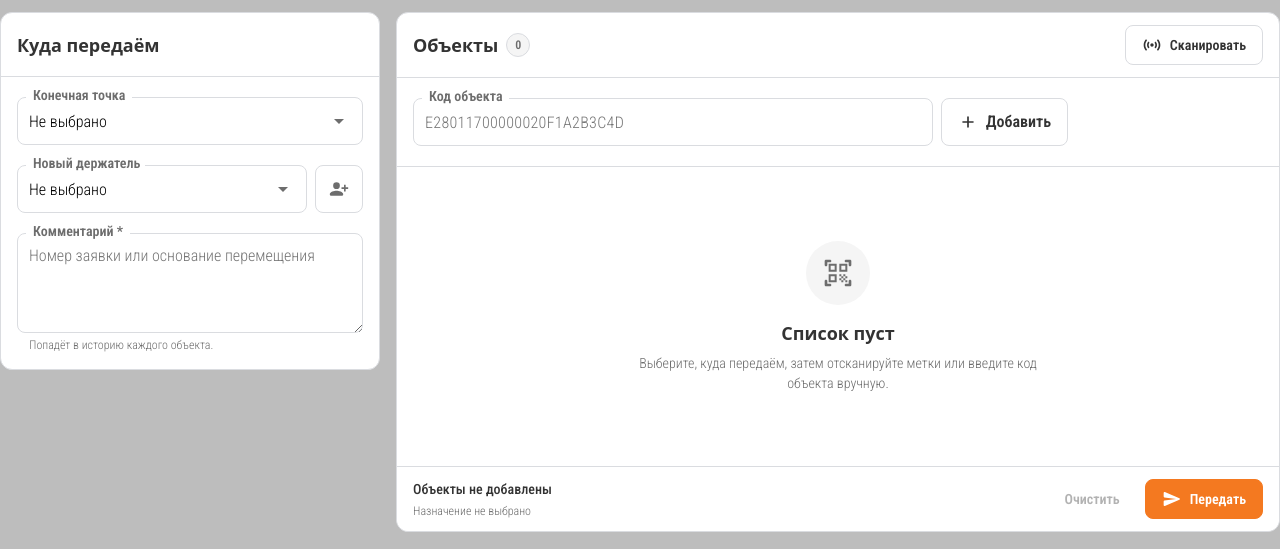
asks for a destination and assigns it to objects added before the choice
This screenshot has width=1280, height=549.
Type "abc" into the field labelled "Код объекта" at (673, 122), box top-left (413, 98), bottom-right (933, 146)
Then press Enter
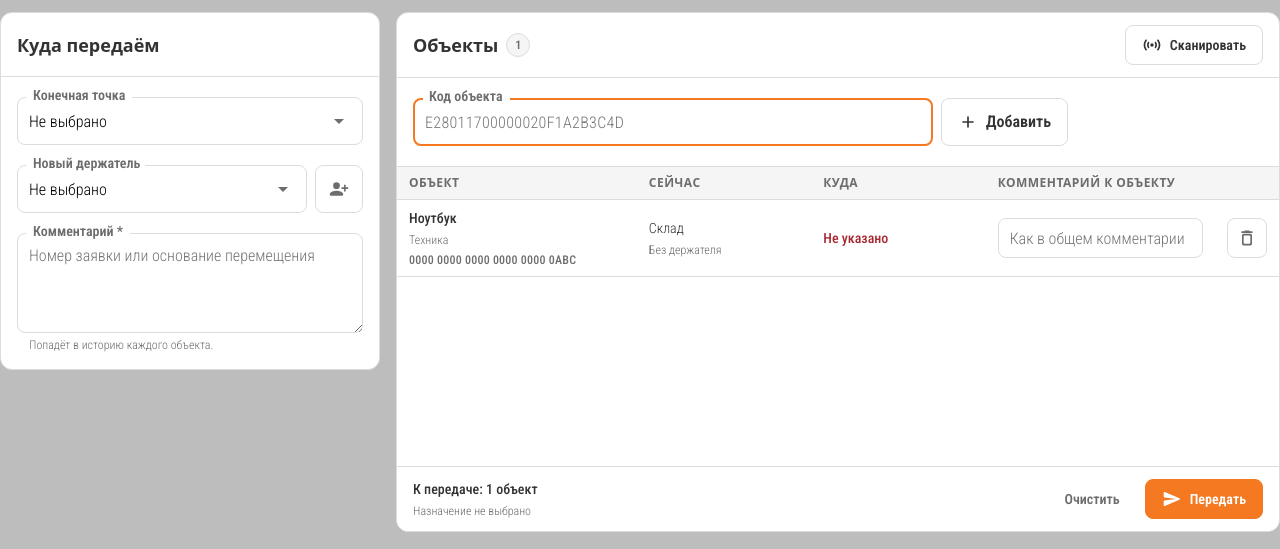
Expected: the text "Ноутбук" is shown, top-left (409, 210), bottom-right (457, 226)
Click the button "Передать" at (1204, 499), box top-left (1145, 479), bottom-right (1263, 519)
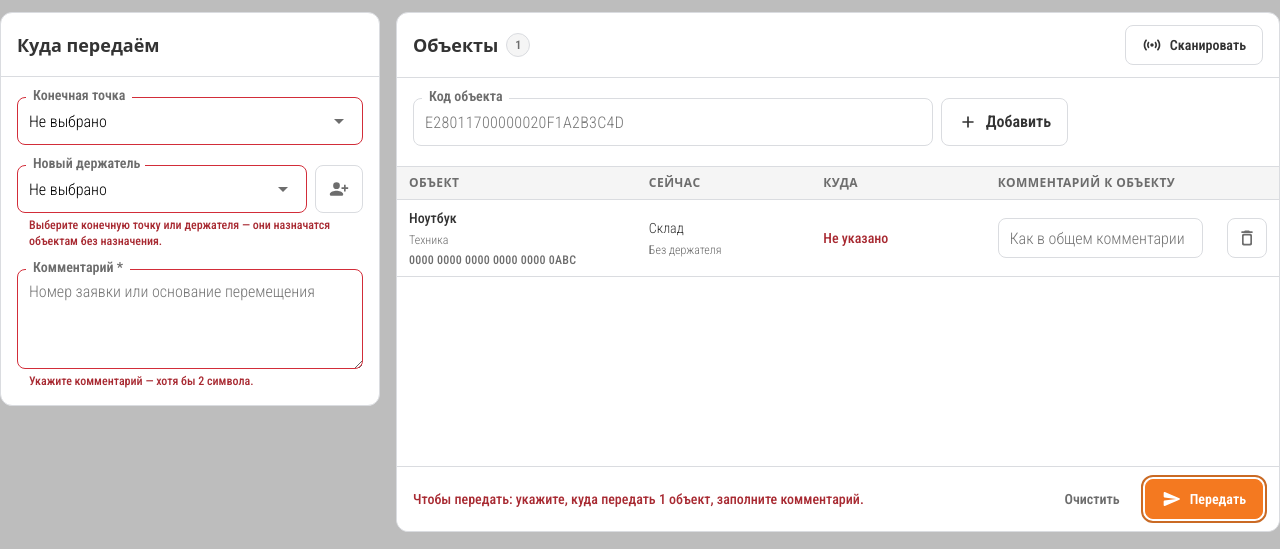
Expected: the text "Не указано" is shown, top-left (823, 230), bottom-right (888, 246)
Expected: the text "Чтобы передать: укажите, куда передать 1 объект, заполните комментарий" is shown, top-left (413, 489), bottom-right (864, 509)
Click the button named "Конечная точка" at (68, 121), box top-left (17, 97), bottom-right (363, 145)
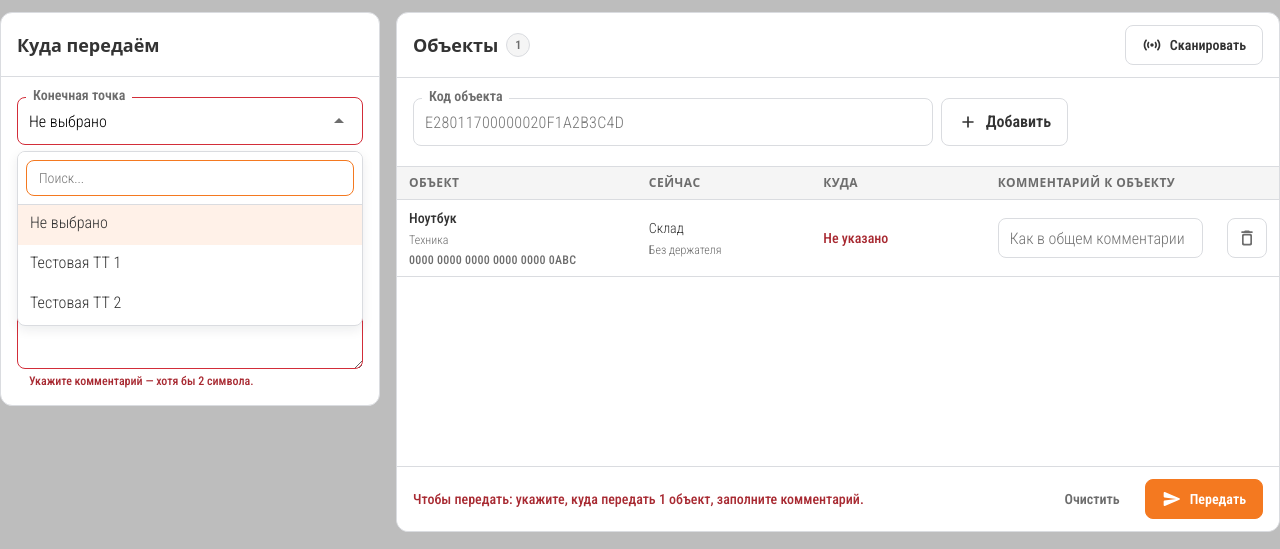
Click the option "Тестовая ТТ 1" at (76, 262), box top-left (30, 253), bottom-right (121, 272)
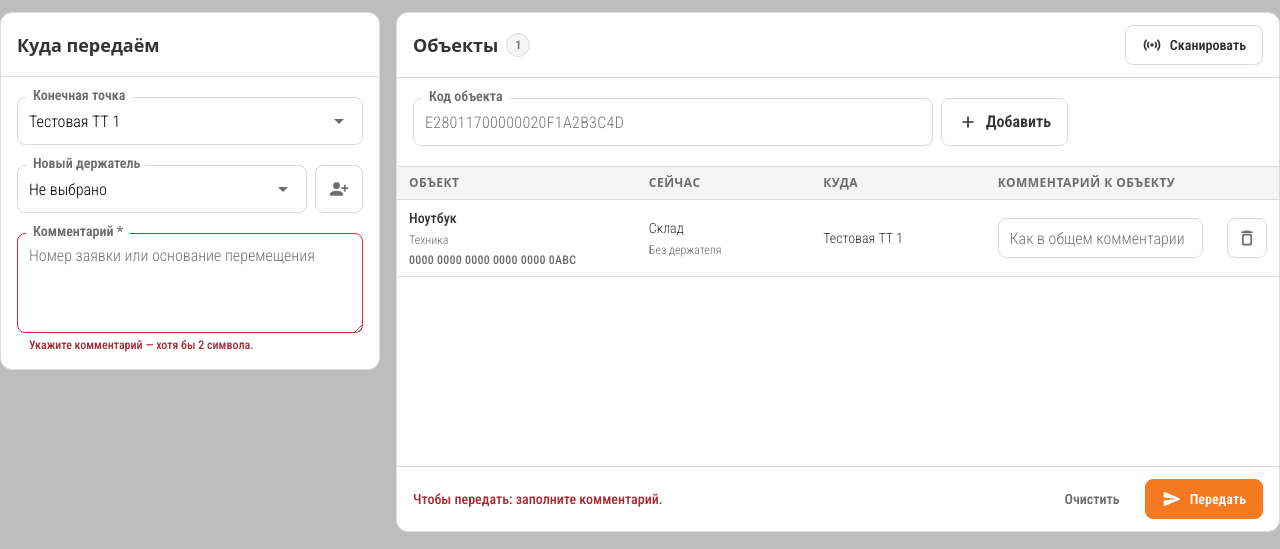
Expected: the text "Не указано" is gone
